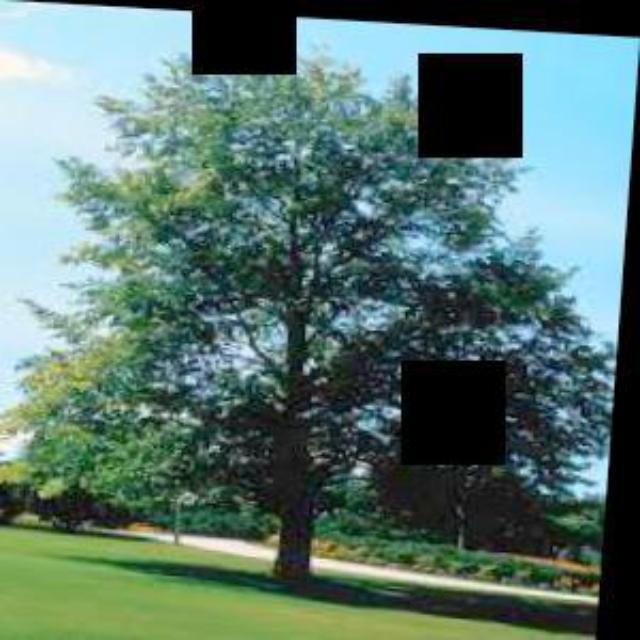tree: (1, 7, 630, 610)
